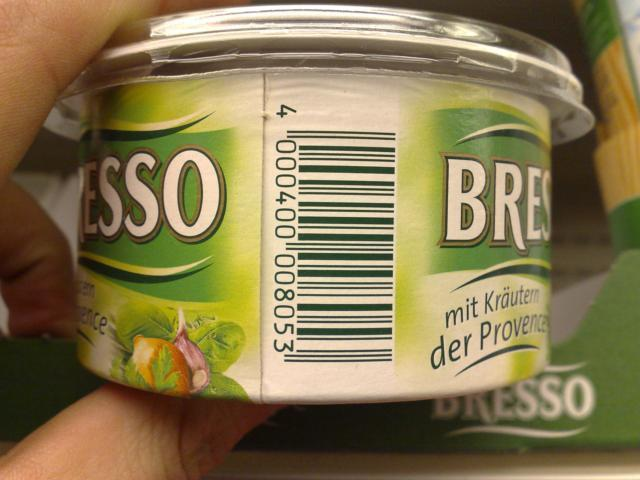Barcode: (264, 95, 396, 374)
